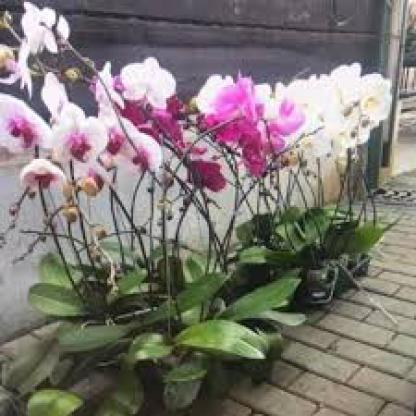ANGGREK: (12, 18, 395, 193)
